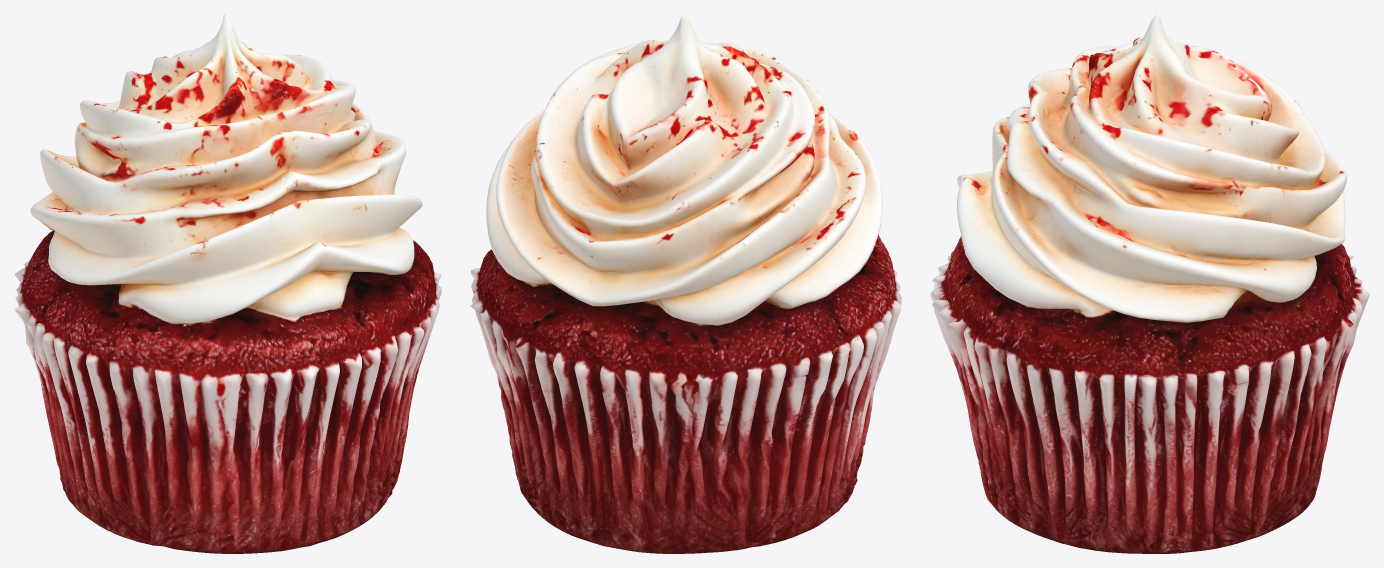
Rendered from redcup.glb.
3 renders of one model, left to right at view 1: azimuth 30°, elevation 25°; view 2: azimuth 150°, elevation 25°; view 3: azimuth 270°, elevation 25°, orthographic.
Visible parts, largest first — view 1: model; view 2: model; view 3: model.
Part boxes in pixels (x1,y1,x2,y2): model: (14, 14, 441, 553); model: (470, 14, 901, 553); model: (930, 14, 1369, 553).
Bounding box in the file's own units: 0.8341 × 1 × 0.8421.
1 material, 1 textured.
